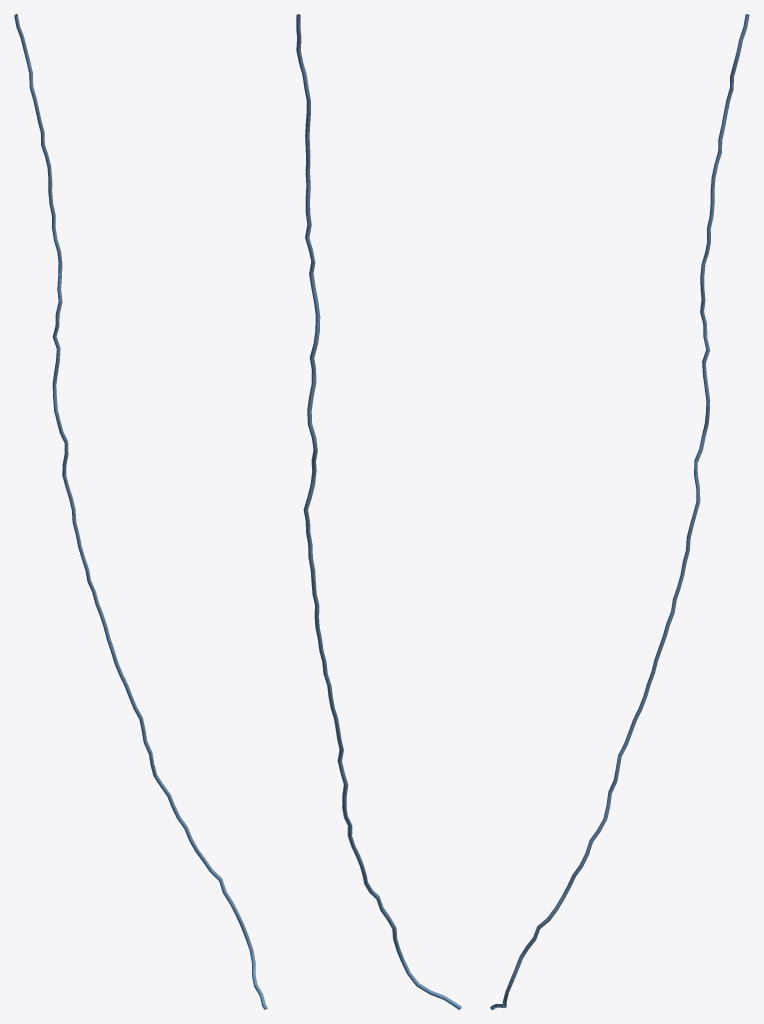
The model's file is sweep311.fbx.
3 renders of one model, left to right at view 1: azimuth 90°, elevation 25°; view 2: azimuth 150°, elevation 25°; view 3: azimuth 270°, elevation 25°, orthographic. The views are drawn at different scales.
Visible parts, largest first — view 1: sweep311; view 2: sweep311; view 3: sweep311.
Part boxes in pixels (bbox=[...]): sweep311: bbox=[14, 14, 267, 1009]; sweep311: bbox=[296, 14, 461, 1009]; sweep311: bbox=[490, 14, 749, 1009].
Bounding box in the file's own units: 0.322 × 5.32 × 1.24.
